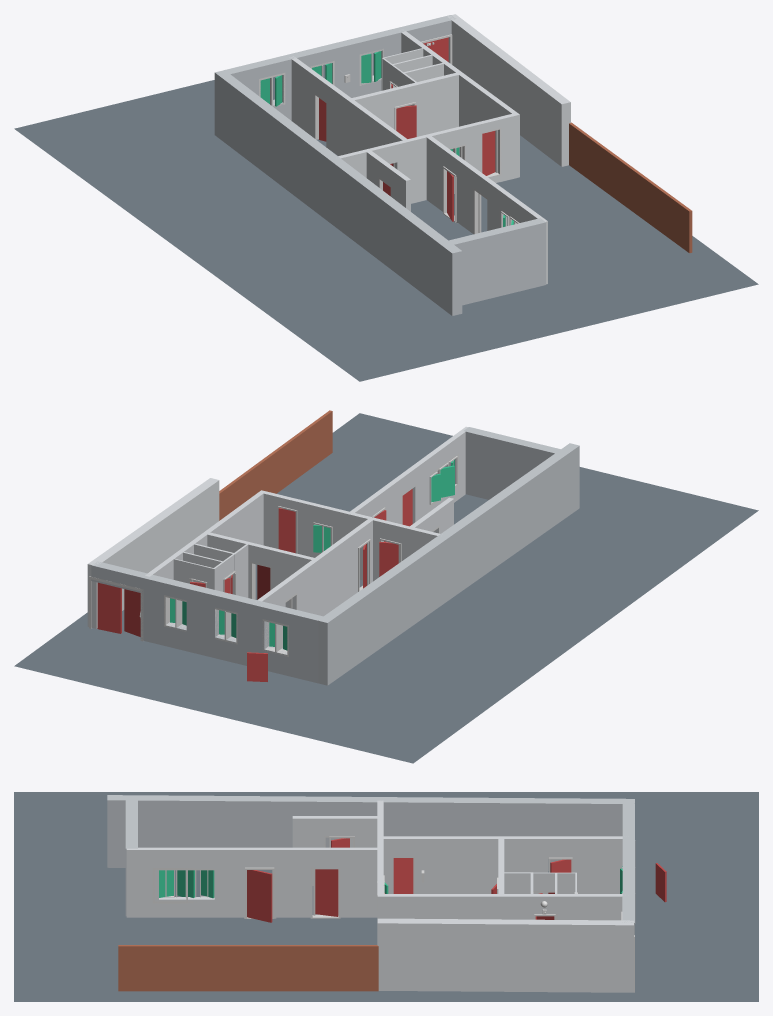
File: foldszint_v3_frames.glb
3 views of the same model, one above another, from view 1: azimuth 30°, elevation 25°; view 2: azimuth 150°, elevation 25°; view 3: azimuth 270°, elevation 25° (orthographic). The views are drawn at different scales.
Visible parts, largest first — view 1: Ground floor slab.001, Wall_path262_0.006, Wall_path378_3.006, Wall_path262_1.006, Brick fence_path234_0, Wall_path226_0.006, Wall_path238_0.006, Wall_path232_0.006, Wall_path224_0.006, Wall_path218_0_385.006, Wall_path256_0.006, Wall_path266_0.006 (+10 smaller); view 2: Ground floor slab.001, Wall_path262_0.006, Wall_path378_3.006, Brick fence_path234_0, Wall_path262_1.006, Wall_path226_0.006, Wall_path218_0_92.006, Wall_path218_0_385.006, Wall_path232_0.006, Wall_path218_0_245.006, Wall_path218_0_525.006, Street gate leaf 1.004 (+15 smaller); view 3: Ground floor slab.001, Wall_path262_0.006, Wall_path378_3.006, Brick fence_path234_0, Wall_path226_0.006, Wall_path232_0.006, Wall_path264_0.006, Wall_path224_0.006, Wall_path266_0.006, Wall_path268_0.013, Wall_path268_0, Wall_path230_0.006 (+23 smaller).
Part boxes in pixels (bbox=[...]): Ground floor slab.001: bbox=[14, 52, 758, 381]; Wall_path262_0.006: bbox=[214, 70, 462, 315]; Wall_path378_3.006: bbox=[447, 14, 570, 166]; Wall_path262_1.006: bbox=[446, 218, 545, 305]; Brick fence_path234_0: bbox=[569, 122, 692, 253]; Wall_path226_0.006: bbox=[326, 83, 393, 155]; Wall_path238_0.006: bbox=[412, 72, 459, 136]; Wall_path232_0.006: bbox=[443, 61, 519, 177]; Wall_path224_0.006: bbox=[289, 56, 319, 138]; Wall_path218_0_385.006: bbox=[328, 38, 361, 97]; Wall_path256_0.006: bbox=[405, 130, 446, 203]; Wall_path266_0.006: bbox=[456, 158, 479, 233]; Ground floor slab.001: bbox=[14, 413, 758, 763]; Wall_path262_0.006: bbox=[318, 443, 579, 685]; Wall_path378_3.006: bbox=[87, 478, 219, 628]; Brick fence_path234_0: bbox=[219, 410, 332, 520]; Wall_path262_1.006: bbox=[464, 427, 562, 499]; Wall_path226_0.006: bbox=[292, 529, 359, 616]; Wall_path218_0_92.006: bbox=[287, 609, 322, 683]; Wall_path218_0_385.006: bbox=[186, 584, 220, 657]; Wall_path232_0.006: bbox=[188, 490, 264, 546]; Wall_path218_0_245.006: bbox=[236, 596, 269, 665]; Wall_path218_0_525.006: bbox=[140, 573, 170, 645]; Street gate leaf 1.004: bbox=[98, 582, 121, 633]; Ground floor slab.001: bbox=[14, 792, 758, 1001]; Wall_path262_0.006: bbox=[107, 795, 634, 870]; Wall_path378_3.006: bbox=[377, 918, 633, 992]; Brick fence_path234_0: bbox=[118, 945, 378, 991]; Wall_path226_0.006: bbox=[413, 836, 548, 893]; Wall_path232_0.006: bbox=[377, 894, 535, 919]; Wall_path264_0.006: bbox=[338, 847, 380, 917]; Wall_path224_0.006: bbox=[571, 836, 622, 893]; Wall_path266_0.006: bbox=[274, 847, 312, 917]; Wall_path268_0.013: bbox=[126, 847, 158, 917]; Wall_path268_0: bbox=[214, 847, 246, 917]; Wall_path230_0.006: bbox=[556, 894, 622, 920].
Bounding box in the file's own units: 20 × 3.84 × 30.
